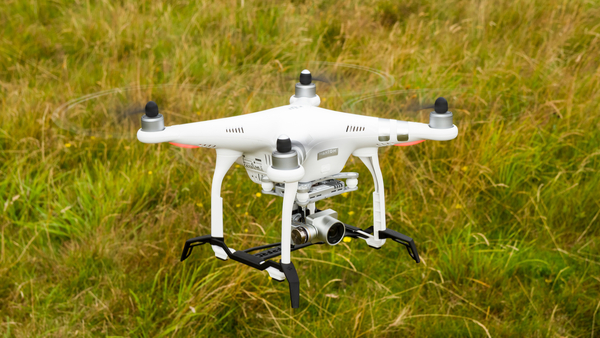drone: (136, 68, 460, 312)
